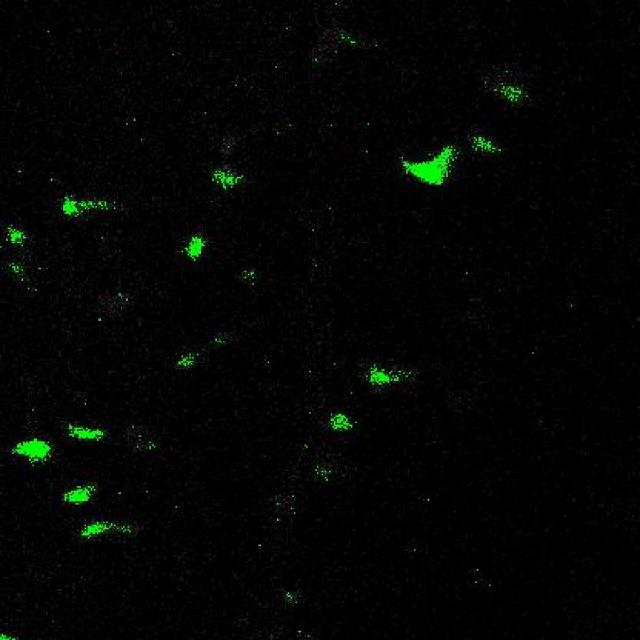Cell: (409, 160, 448, 186), (19, 440, 46, 462), (72, 426, 101, 440), (188, 236, 204, 260), (371, 372, 398, 386), (214, 170, 237, 186), (330, 416, 352, 431), (68, 487, 86, 504), (64, 197, 80, 216)
